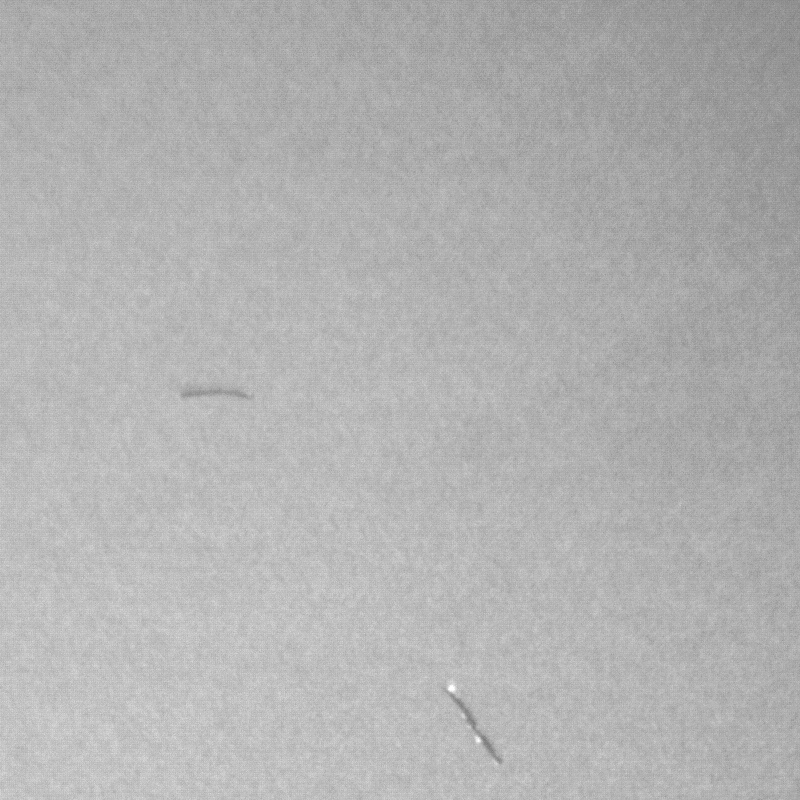defect: (442, 683, 502, 769), (184, 385, 264, 407)
